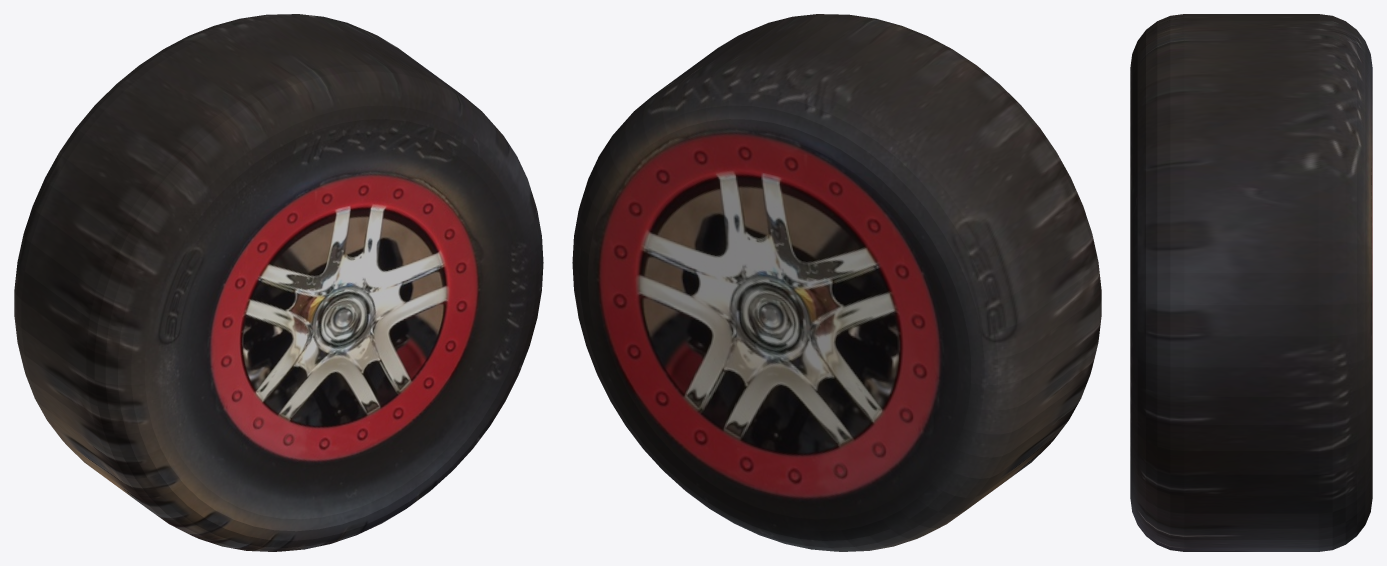
File: left_front_wheel.obj
3 renders of one model, left to right at view 1: azimuth 30°, elevation 25°; view 2: azimuth 150°, elevation 25°; view 3: azimuth 270°, elevation 25°, orthographic. The views are drawn at different scales.
Visible parts, largest first — view 1: left_front_wheel; view 2: left_front_wheel; view 3: left_front_wheel.
Boxes of the visible parts, x1,y1,x2,y2 form: left_front_wheel: (14, 14, 543, 551); left_front_wheel: (572, 14, 1101, 551); left_front_wheel: (1130, 14, 1372, 551).
Bounding box in the file's own units: 0.0999 × 0.1 × 0.045.
